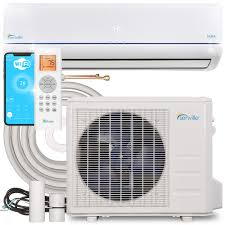ac: (1, 3, 224, 72)
